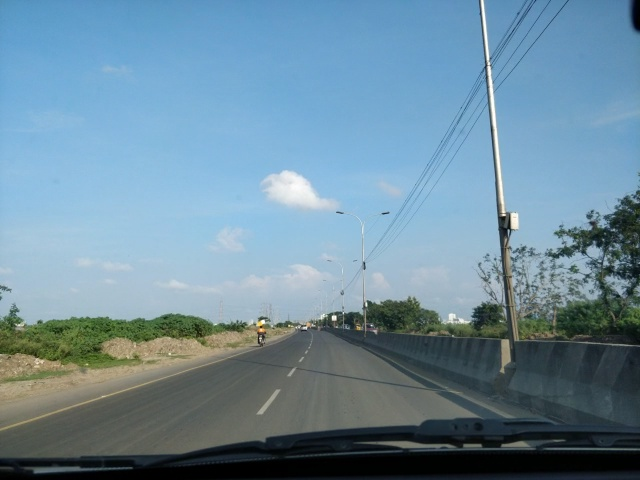motorbike: (252, 321, 268, 353)
